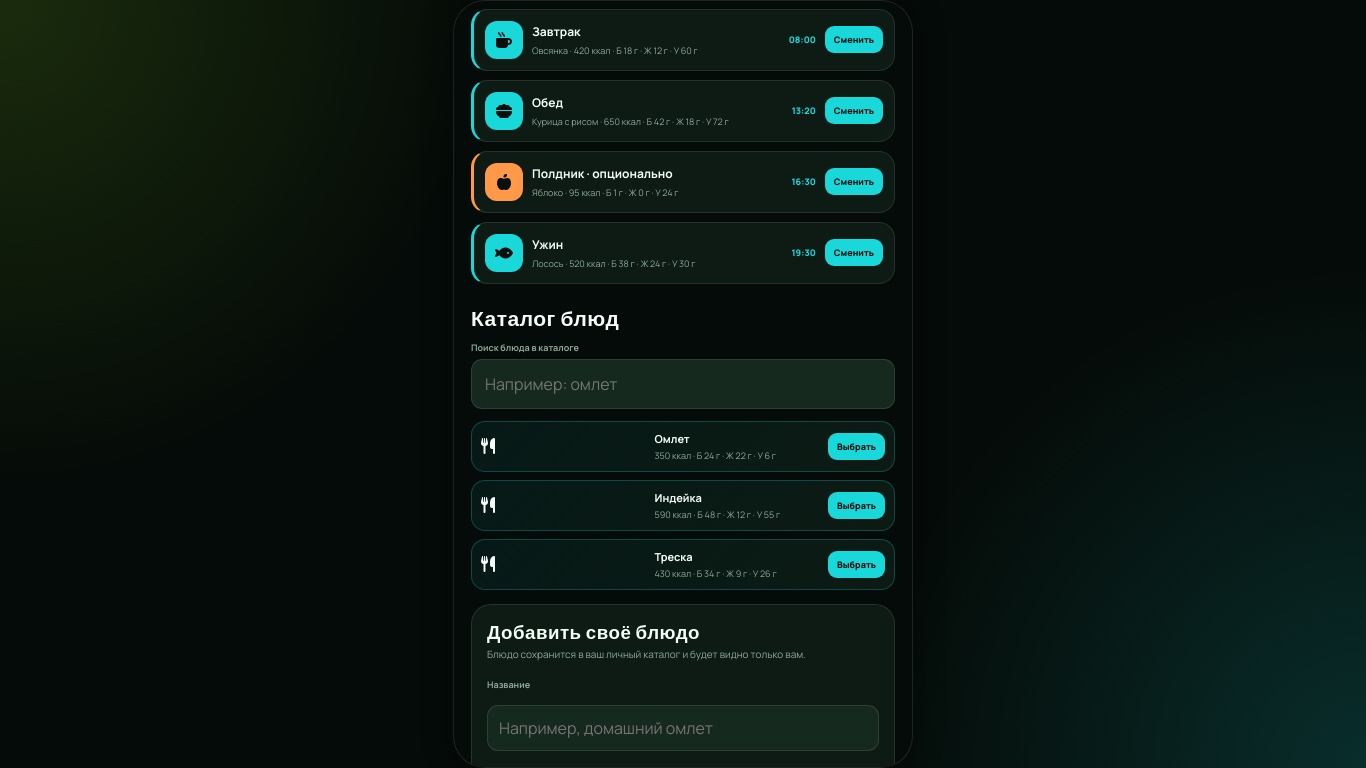
Test: Nutrition › updates the dish search query
(page scrolled)
Type "омлет" into the field labelled "Поиск блюда в каталоге" at (683, 384), box top-left (471, 359), bottom-right (895, 409)
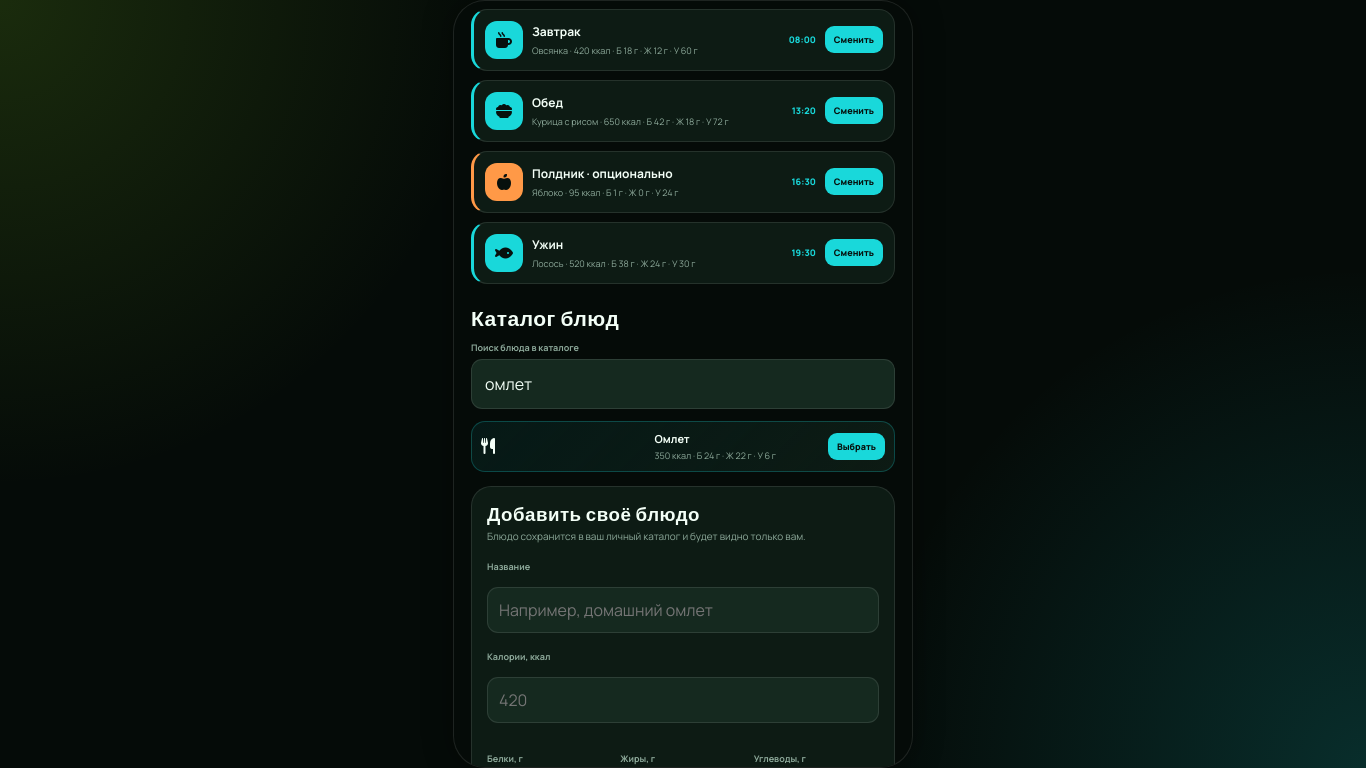
Check: the text "Омлет" is shown, box top-left (654, 431), bottom-right (690, 446)
Check: the text "Индейка" is gone
